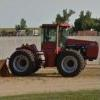Tractor: (5, 19, 100, 82)
